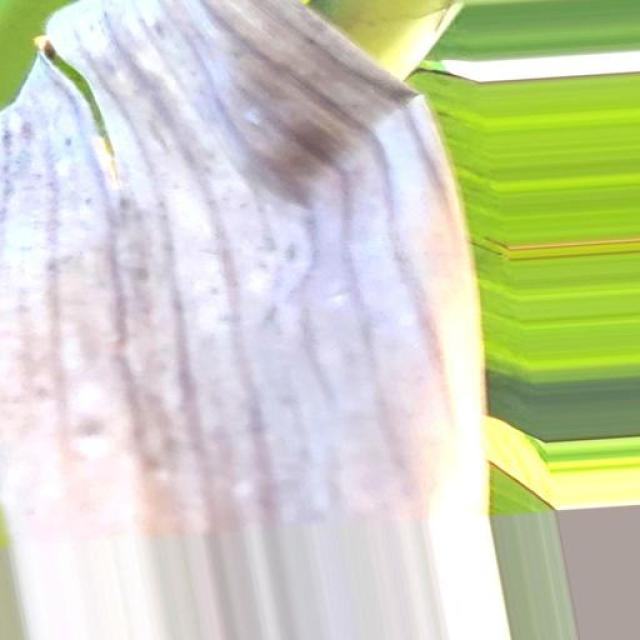Bract_mosaic_virus: (0, 3, 514, 640)
